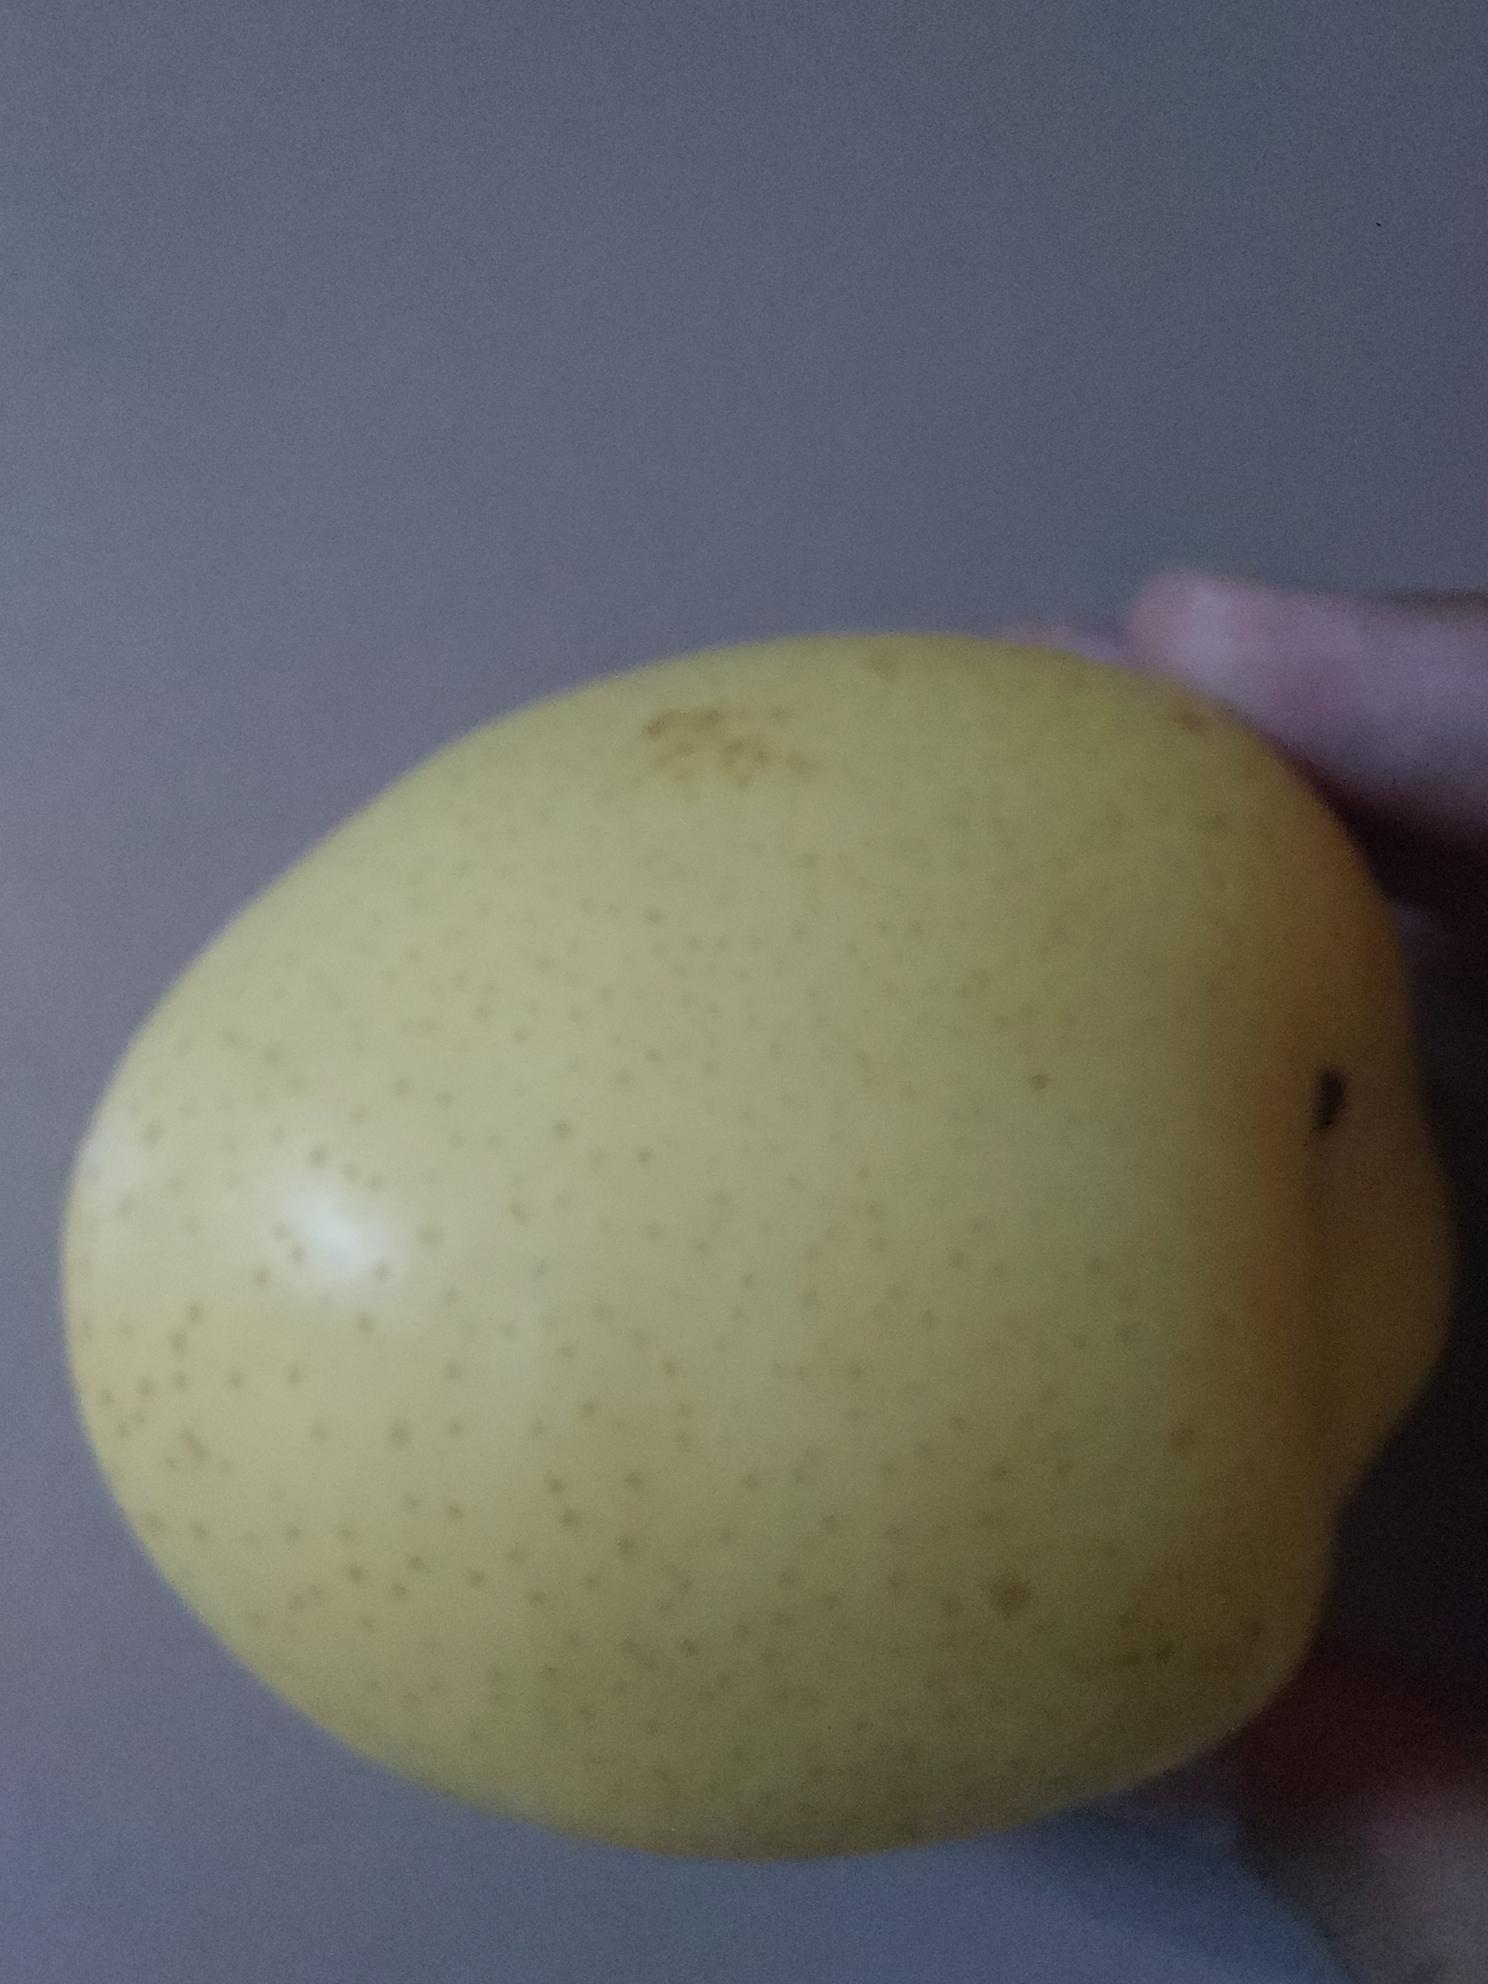Good Pear: (59, 622, 1476, 1872)
